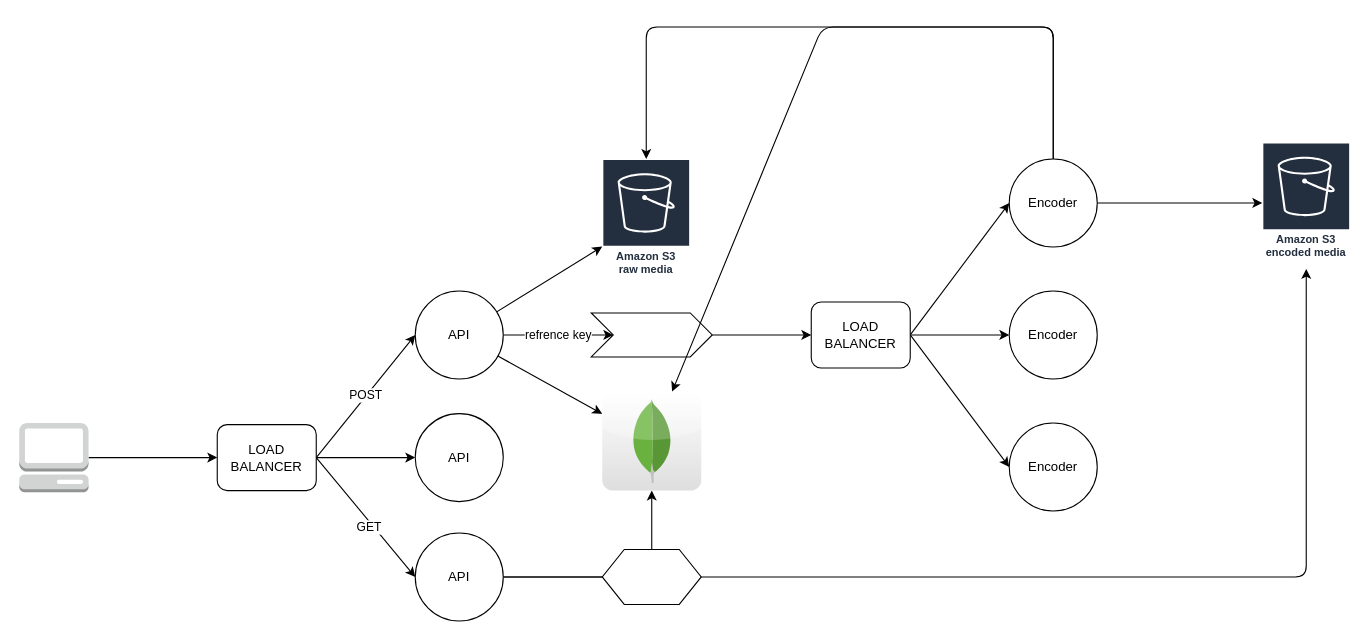
The diagram is 1370 pixels wide and 640 high, and some of its shapes have lost their labels. The shapes that lost their labels are listed below. From the top down, each one's centre as x and y in pixels, then its label:
[651,334]: Apache KAFKA
[53,457]: client
[651,441]: meta-data
[651,576]: CDN
